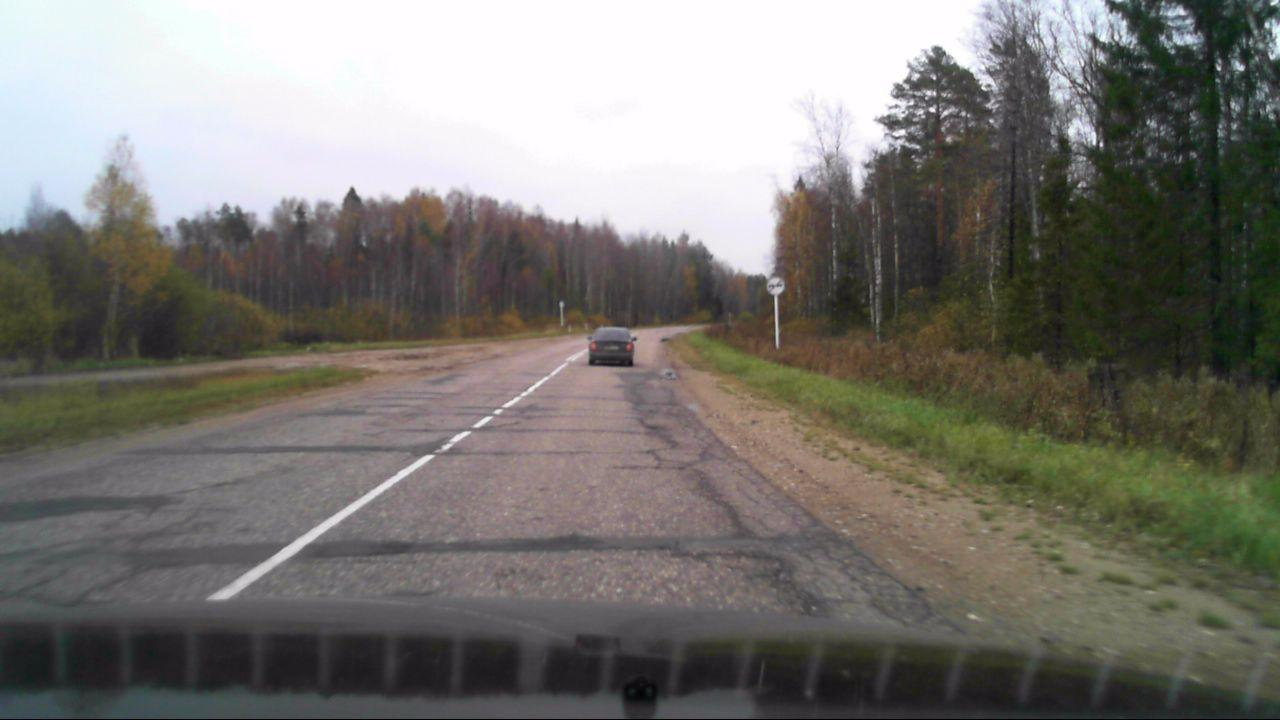3_21: (764, 276, 786, 296)
